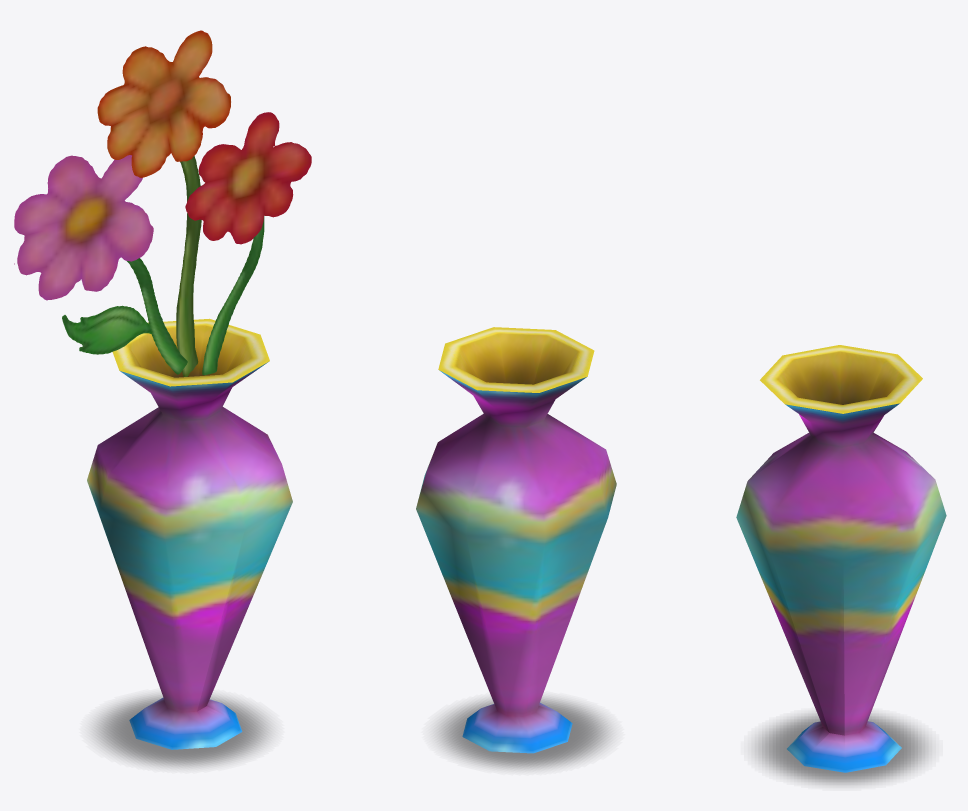
File: vaseB_tall.glb
3 renders of one model, left to right at view 1: azimuth 30°, elevation 25°; view 2: azimuth 150°, elevation 25°; view 3: azimuth 270°, elevation 25°, orthographic.
Visible parts, largest first — view 1: pSphere3, pPlane4, pPlane15, pPlane5, pPlane16, pPlane14, pPlane10, pPlane8, pPlane12; view 2: pSphere3, pPlane16; view 3: pSphere3, pPlane16.
Boxes of the visible parts, x1,y1,x2,y2 form: pSphere3: (87,318,292,749); pPlane4: (14,155,153,300); pPlane15: (97,30,230,177); pPlane5: (185,112,311,244); pPlane16: (93,694,270,767); pPlane14: (176,156,201,376); pPlane10: (62,305,152,354); pPlane8: (202,216,264,375); pPlane12: (127,258,187,374); pSphere3: (416,327,616,753); pPlane16: (436,697,610,769); pSphere3: (736,345,946,772); pPlane16: (755,713,928,784).
Bounding box in the file's own units: 1.22 × 2.89 × 0.8377.
6 materials, 6 textured.
